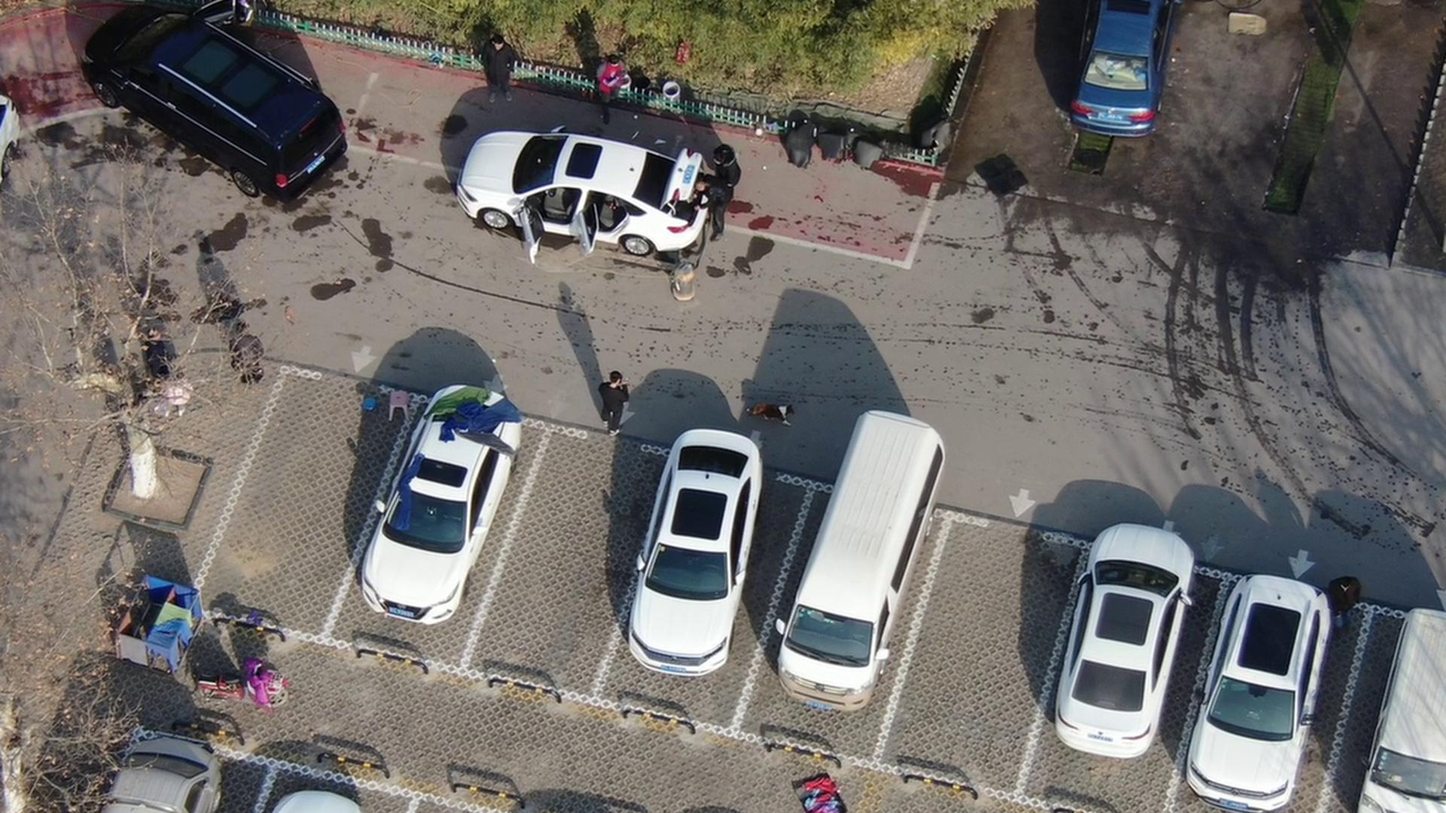human: (697, 169, 743, 241), (230, 322, 279, 389), (596, 365, 642, 436), (489, 21, 530, 99), (163, 364, 202, 422), (1327, 571, 1359, 628), (146, 324, 172, 385)
